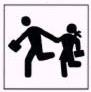Escola: (1, 1, 89, 92)
